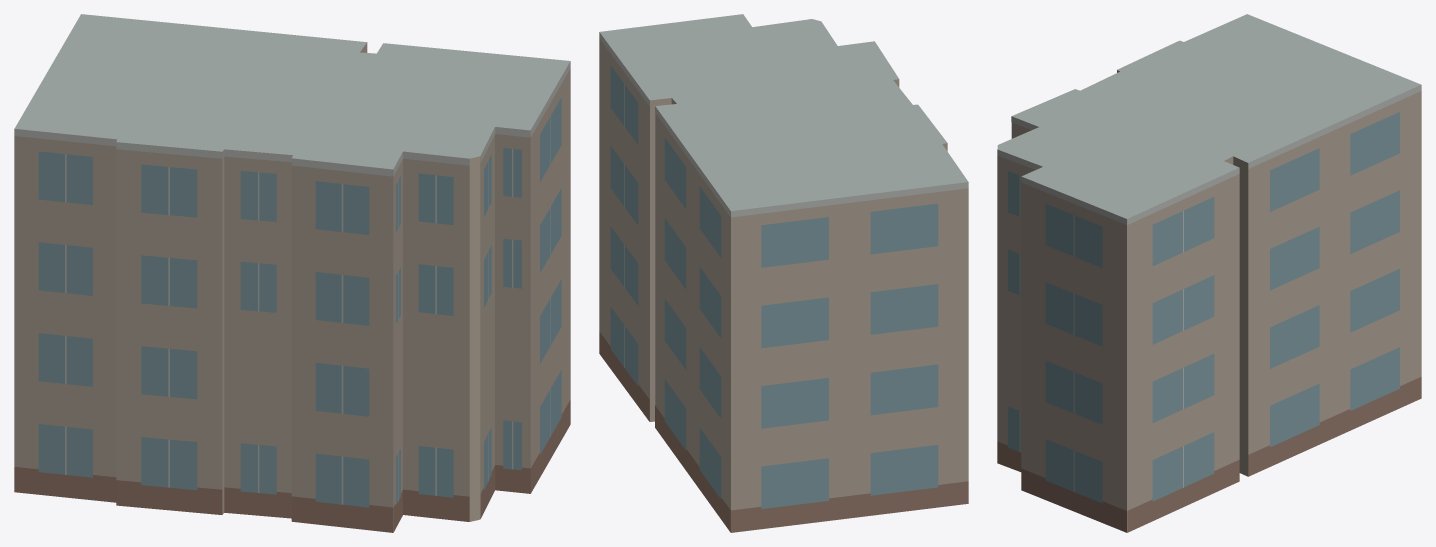
Rendered from survey-upis-32697713.glb.
3 renders of one model, left to right at view 1: azimuth 30°, elevation 25°; view 2: azimuth 150°, elevation 25°; view 3: azimuth 270°, elevation 25°, orthographic. The views are drawn at different scales.
Visible parts, largest first — view 1: survey-upis-32697713.tmp; view 2: survey-upis-32697713.tmp; view 3: survey-upis-32697713.tmp.
Boxes of the visible parts, x1,y1,x2,y2 form: survey-upis-32697713.tmp: (14,14,570,532); survey-upis-32697713.tmp: (599,14,968,532); survey-upis-32697713.tmp: (997,14,1421,532).
Size of the model in its own units: 17.53 by 12.5 by 15.32.
